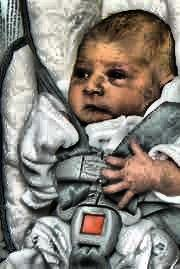seatbelt: (23, 46, 102, 164), (96, 101, 178, 182)
